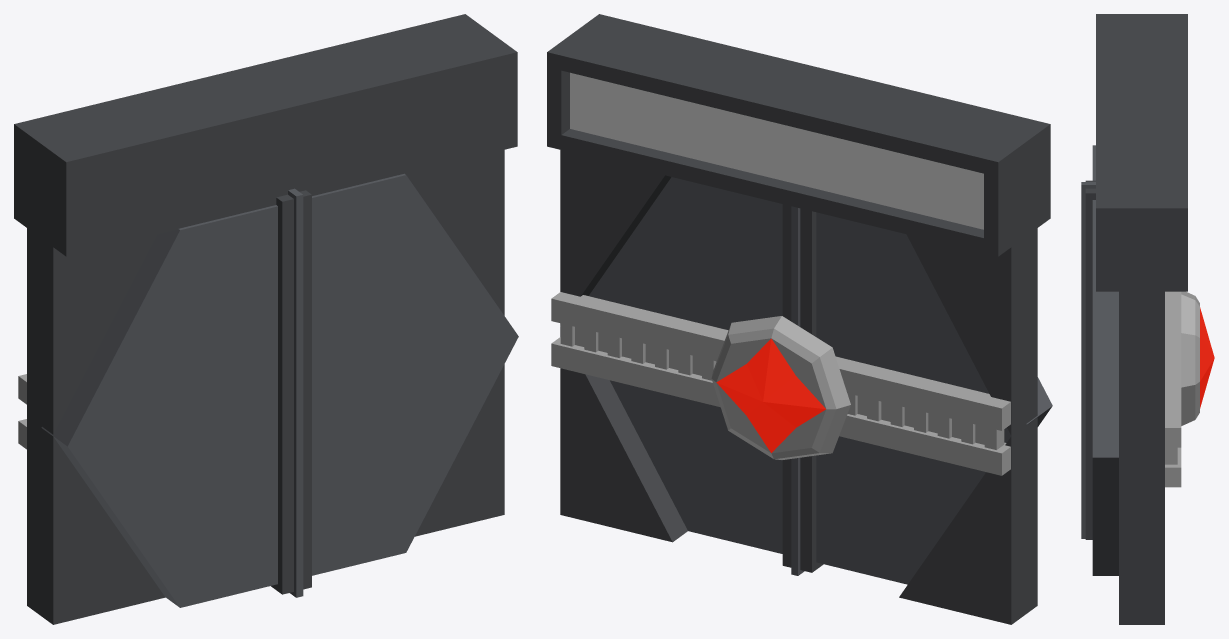
File: Airlock.fbx
The picture shows the model from 3 angles, left to right: view 1: azimuth 30°, elevation 25°; view 2: azimuth 150°, elevation 25°; view 3: azimuth 270°, elevation 25°; orthographic projection. The views are drawn at different scales.
Parts seen in each view (by area): view 1: Airlock, rDoor, lDoor; view 2: Airlock, rDoor, lDoor; view 3: Airlock, lDoor.
Boxes of the visible parts, bbox=[...] form: Airlock: bbox=[14, 14, 517, 624]; rDoor: bbox=[41, 189, 299, 607]; lDoor: bbox=[291, 173, 518, 596]; Airlock: bbox=[547, 14, 1050, 624]; rDoor: bbox=[794, 207, 1052, 584]; lDoor: bbox=[589, 177, 794, 575]; Airlock: bbox=[1096, 14, 1214, 624]; lDoor: bbox=[1081, 183, 1118, 575].
Size of the model in its own units: 400 by 116 by 410.
